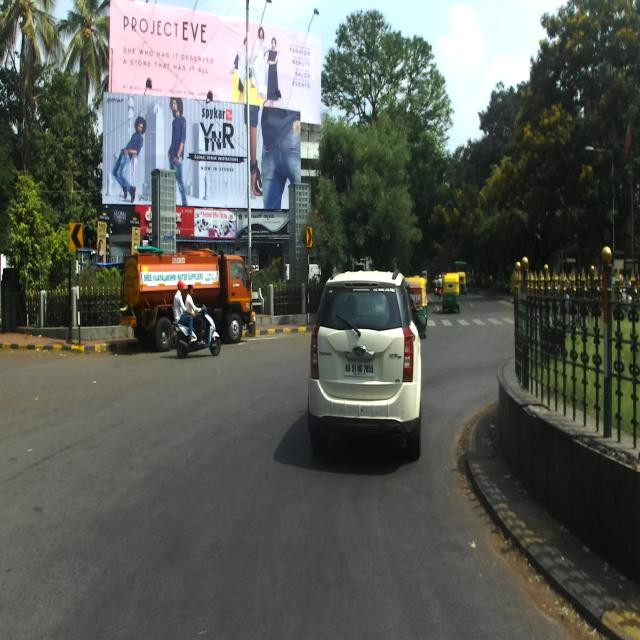car ahead at: (307, 270, 429, 462)
motorcycle ahead at: (166, 310, 223, 358)
truck ahead at: (125, 244, 256, 350)
